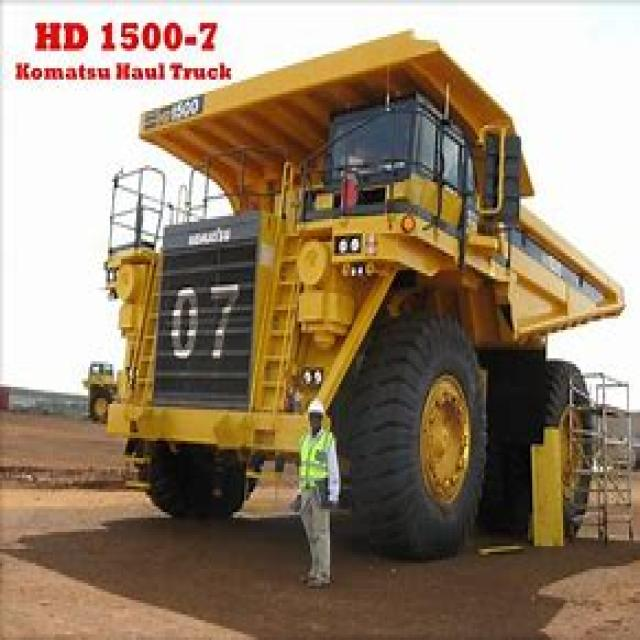dump_truck: (90, 34, 609, 552)
